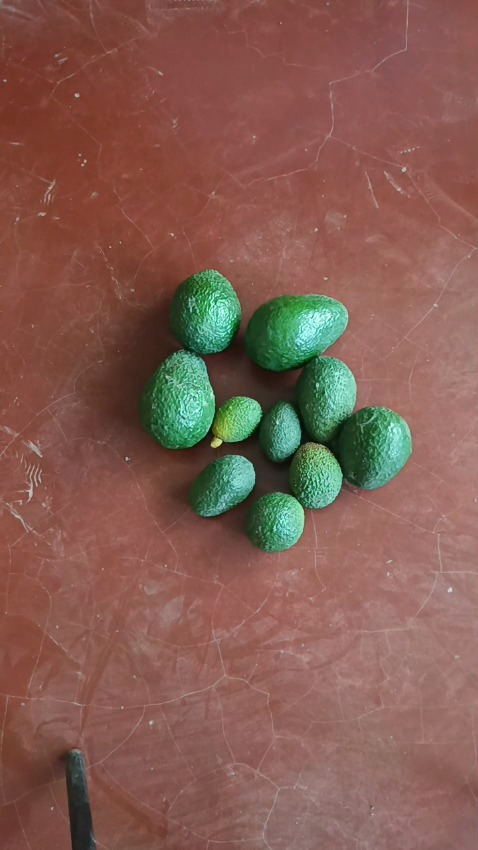Primera: (138, 350, 216, 449), (169, 269, 242, 354), (295, 356, 357, 442)
Segunda: (244, 294, 348, 370), (334, 407, 412, 489)
Tercera: (187, 454, 256, 517), (288, 442, 342, 509), (244, 493, 304, 551), (257, 400, 300, 462), (211, 396, 263, 442)
